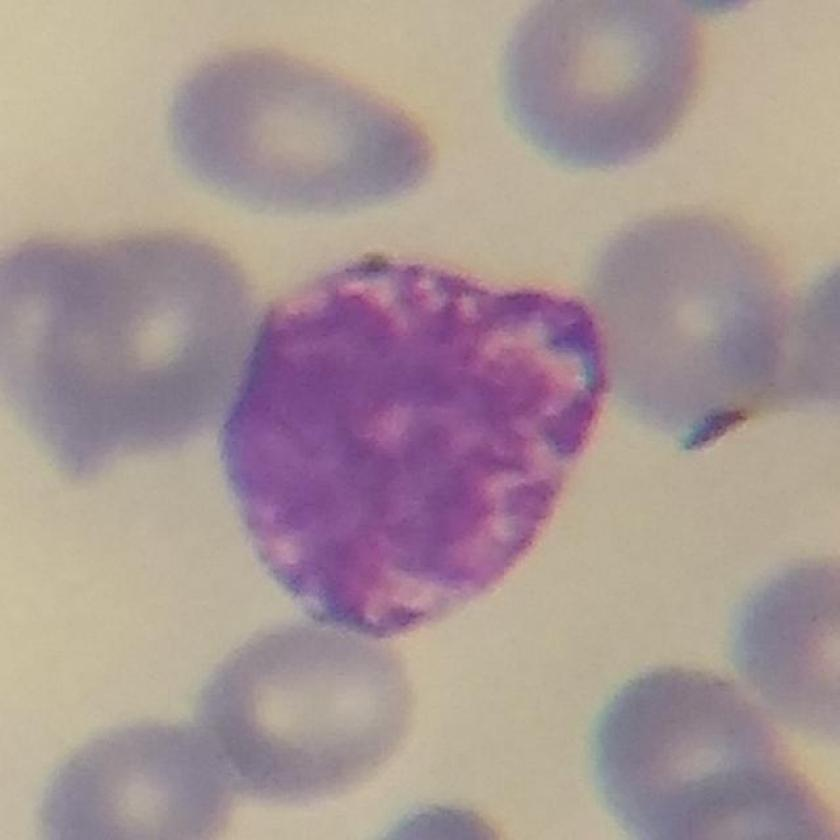basophil: (223, 255, 617, 638)
